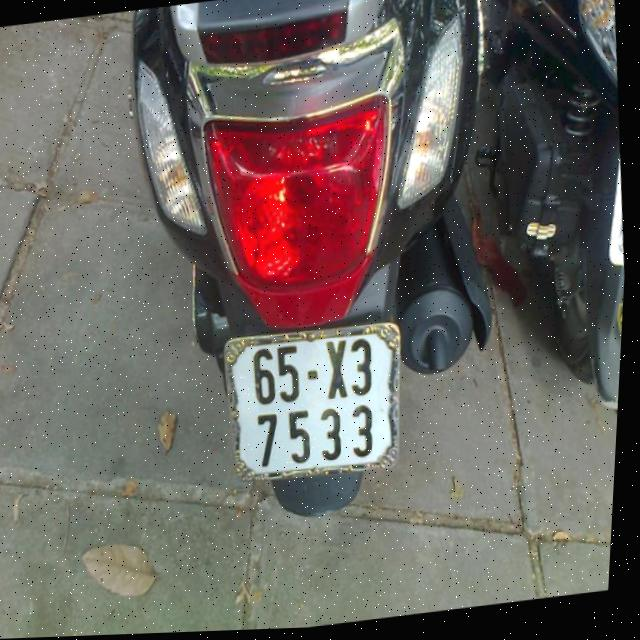motorcycle: (81, 0, 535, 545)
plate: (213, 311, 417, 497)
